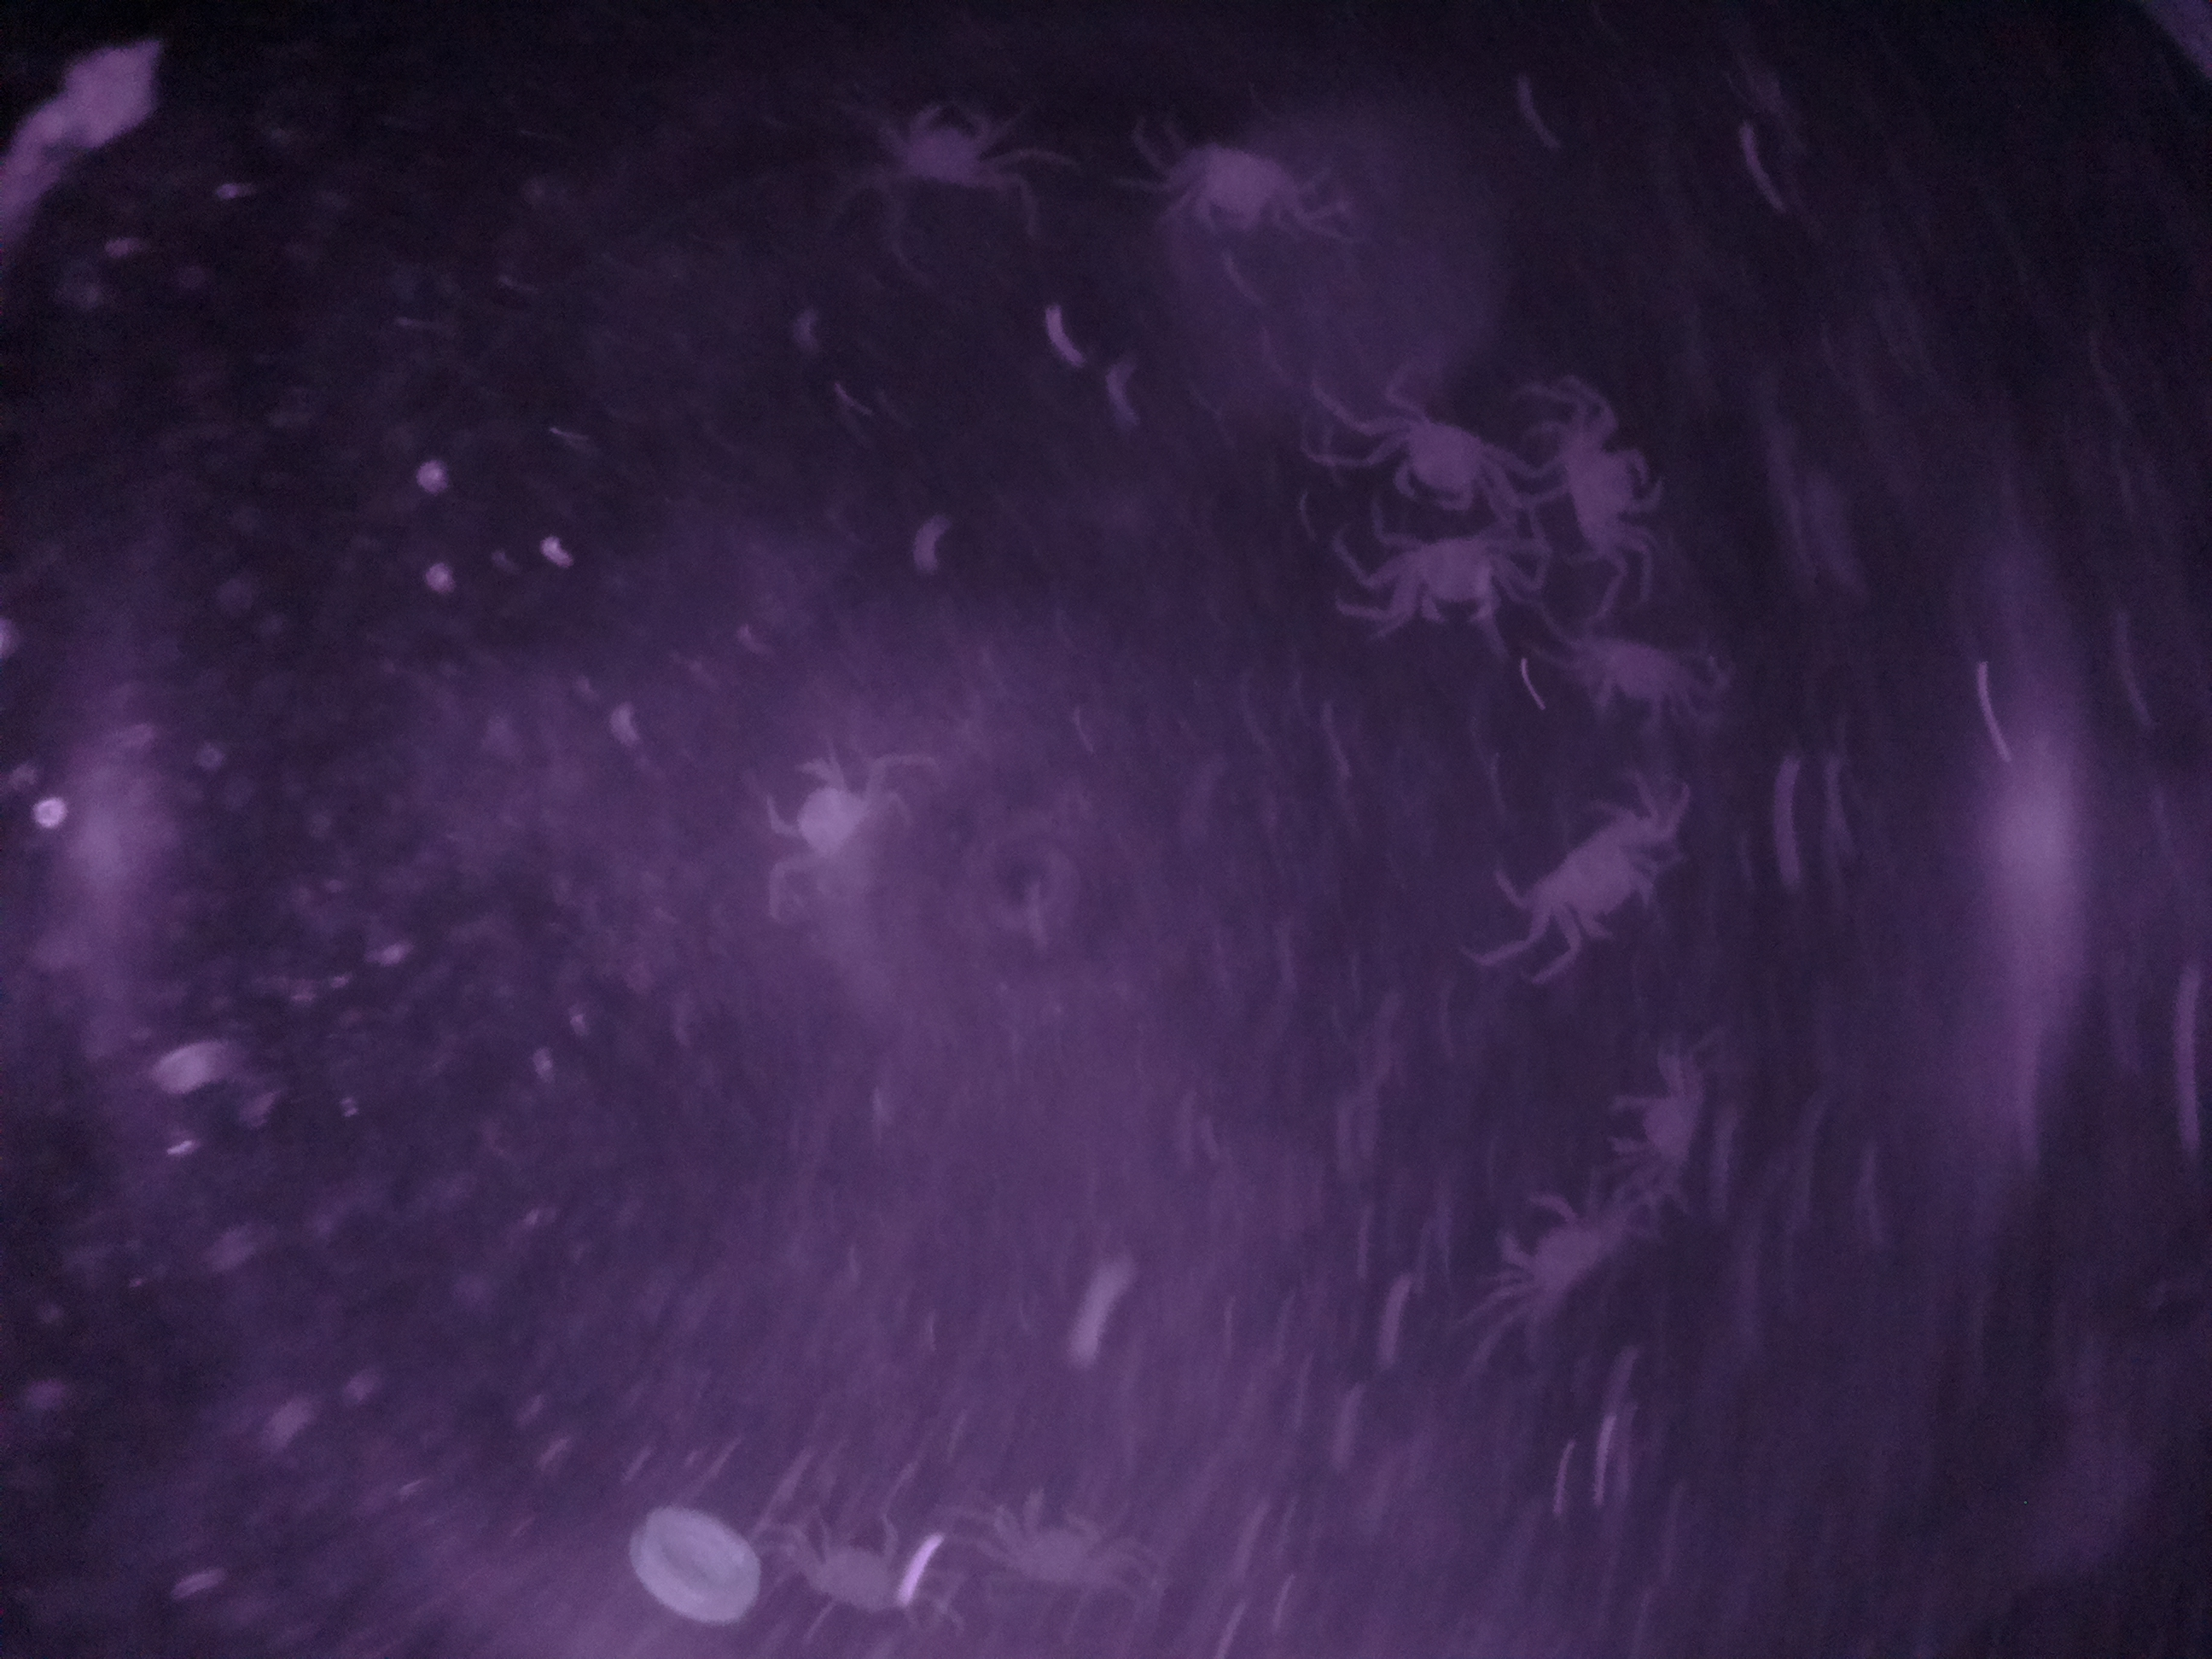Crab: (1534, 800, 1679, 978), (1352, 519, 1545, 641), (1329, 404, 1527, 511), (880, 70, 1024, 213), (1557, 406, 1681, 572)
